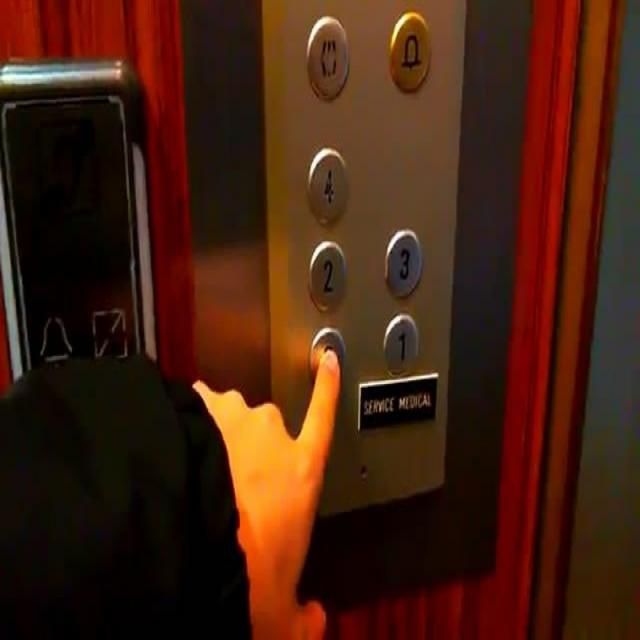1: (380, 310, 424, 386)
2: (306, 235, 348, 321)
3: (380, 226, 424, 302)
4: (303, 138, 352, 230)
alarm: (388, 5, 435, 99), (29, 303, 80, 376)
open: (303, 11, 351, 104)
